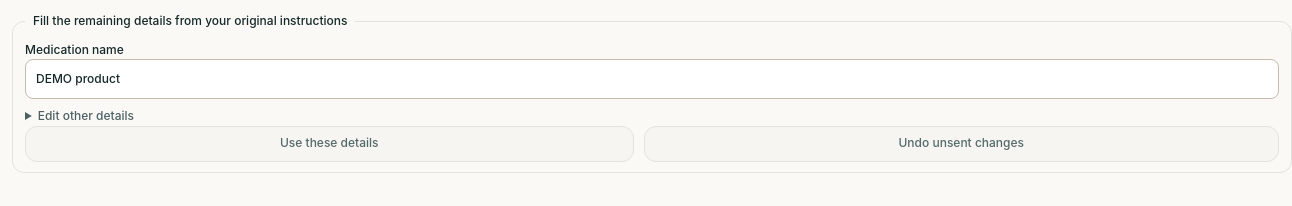
Scenario: keeps edited values on an unavailable response and only clears them when explicitly undone
The width and height of the screenshot is (1292, 206).
Replace the text in the field labelled "Medication name" with "DEMO corrected product" at (652, 79), box [25,59,1279,99]
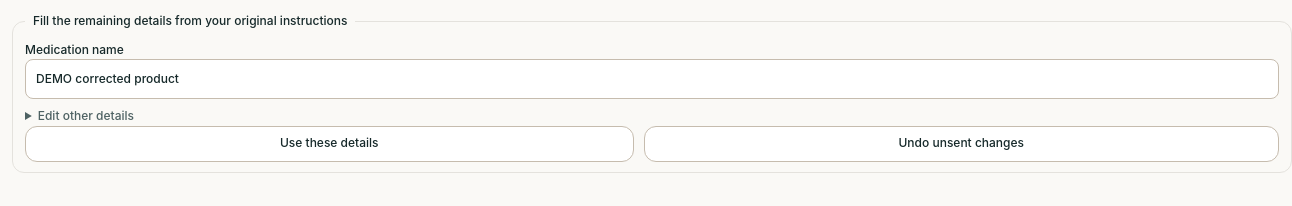
Click the button "Use these details" at (329, 144), box [25,126,634,162]
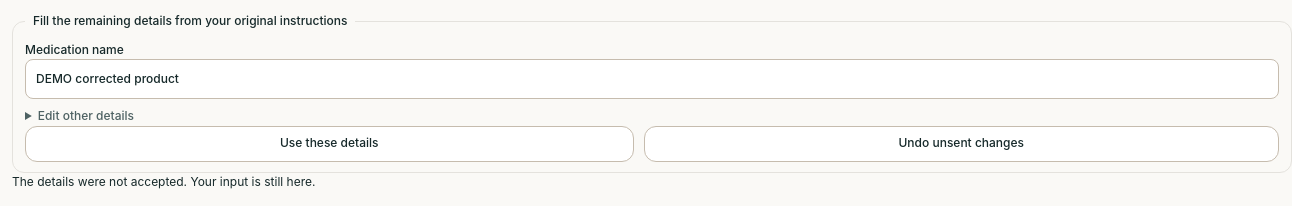
Result: the text "The details were not accepted. Your input is still here." is shown at [12,174,315,189]
Click the button "Undo unsent changes" at (961, 144), box [644,126,1279,162]
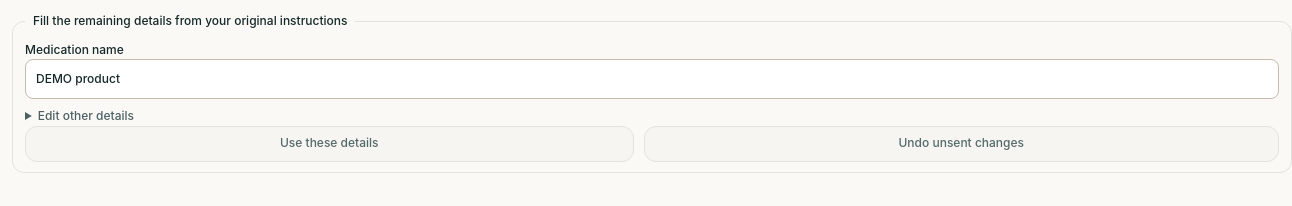
Result: the field labelled "Medication name" holds "DEMO product" at [25,59,1279,99]
